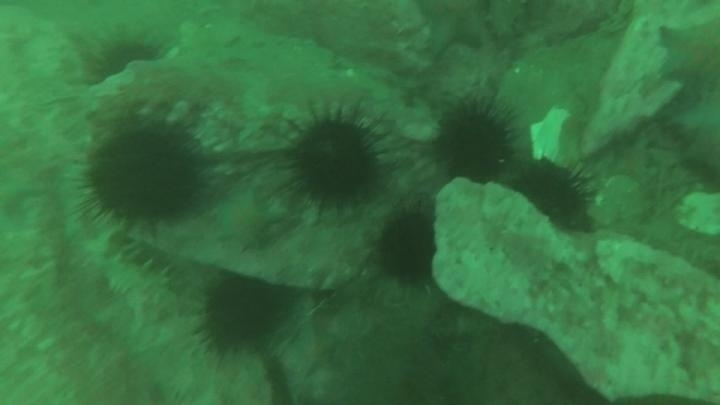echinus: (81, 121, 209, 231), (284, 112, 385, 211), (433, 100, 518, 185), (506, 157, 594, 233), (198, 276, 284, 352), (373, 209, 439, 286), (86, 35, 162, 86)
holothurian: (76, 226, 181, 317)
starfish: (210, 185, 286, 253), (669, 90, 720, 182), (655, 21, 719, 94), (413, 1, 491, 58), (287, 319, 344, 379), (607, 135, 655, 183)
